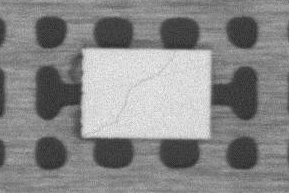DIE_CRACK: (98, 51, 177, 131)
